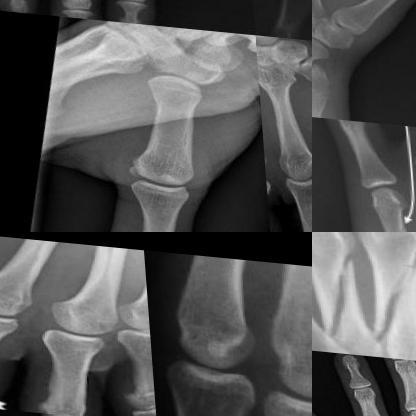fracture: (358, 243, 415, 350), (312, 249, 366, 343), (372, 208, 403, 231)
